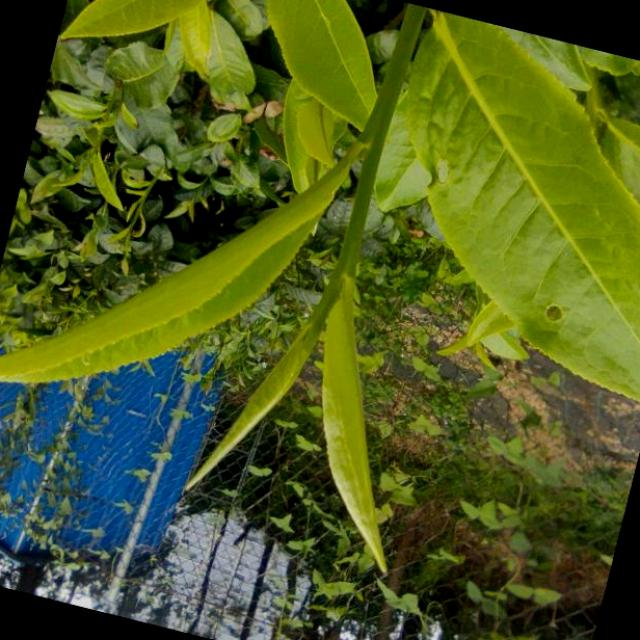Stem: (335, 251, 359, 276)
